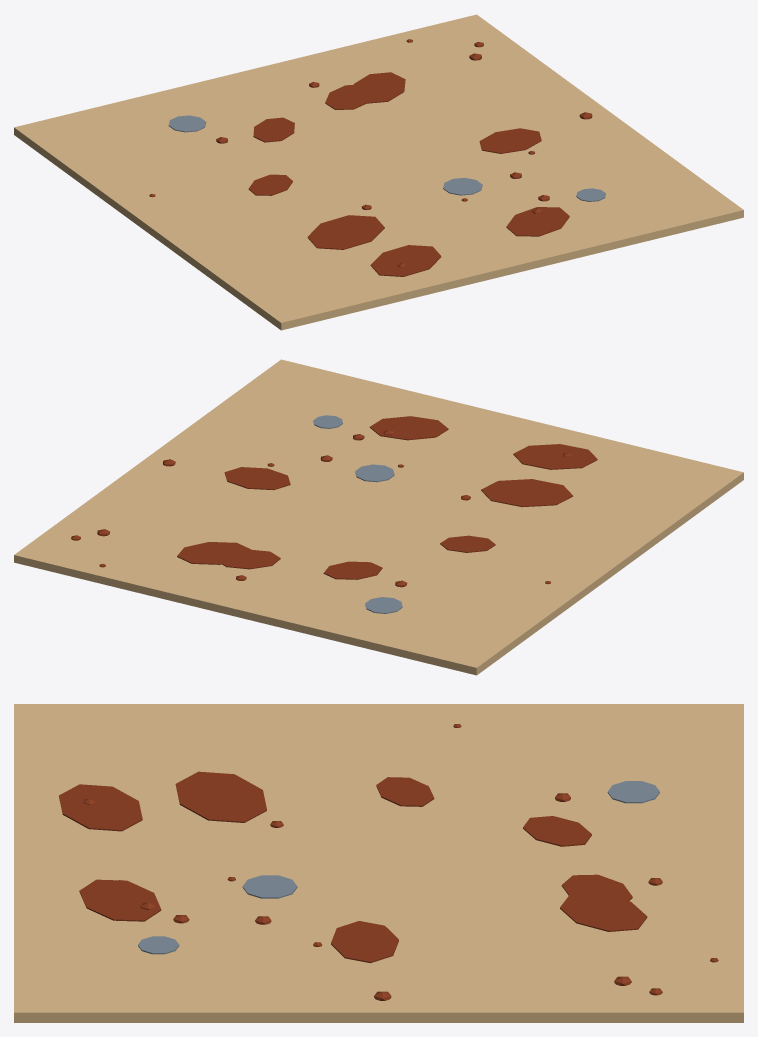
Rendered from prop_ground.fbx.
The picture shows the model from 3 angles, top to bottom: view 1: azimuth 30°, elevation 25°; view 2: azimuth 150°, elevation 25°; view 3: azimuth 270°, elevation 25°; orthographic projection. The views are drawn at different scales.
Visible parts, largest first — view 1: prop_ground; view 2: prop_ground; view 3: prop_ground.
Part boxes in pixels (left/top/right/bottom): prop_ground: left=14, top=14, right=743, bottom=330; prop_ground: left=14, top=359, right=743, bottom=675; prop_ground: left=14, top=704, right=743, bottom=1022.
Bounding box in the file's own units: 32 × 0.7698 × 32.
